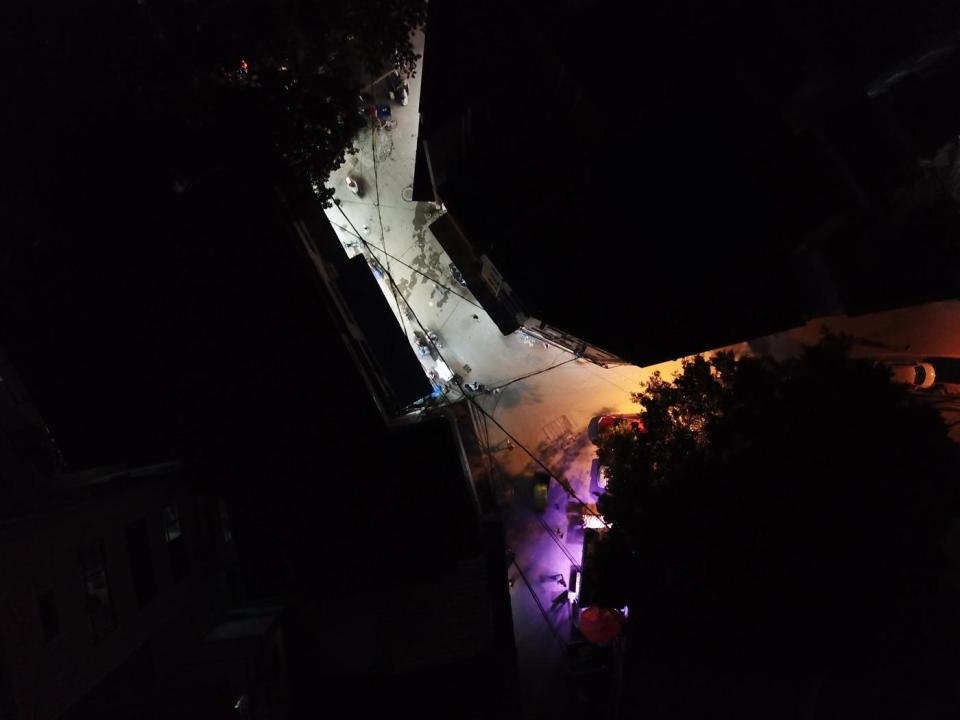car: (596, 412, 663, 444), (596, 464, 644, 494)
truck: (531, 471, 551, 513)
